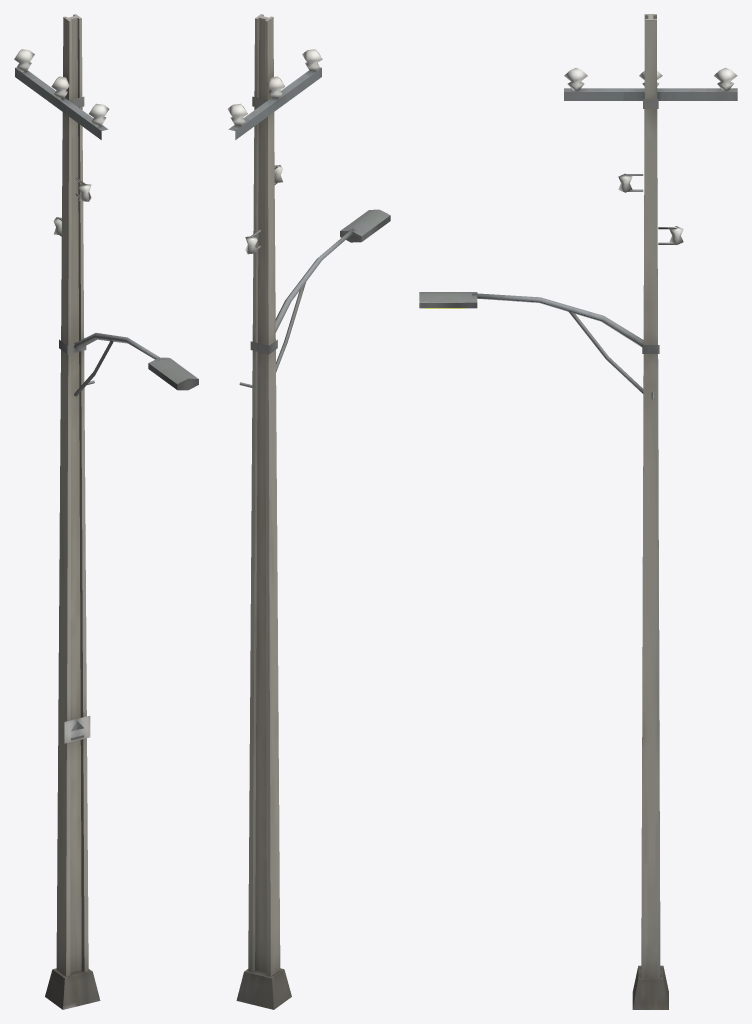
File: pole_streetlight.glb
The picture shows the model from 3 angles, left to right: view 1: azimuth 30°, elevation 25°; view 2: azimuth 150°, elevation 25°; view 3: azimuth 270°, elevation 25°; orthographic projection.
Parts seen in each view (by area): view 1: pole_streetlight; view 2: pole_streetlight; view 3: pole_streetlight.
Part boxes in pixels (x1=…): pole_streetlight: x1=14, y1=14, x2=198, y2=1009; pole_streetlight: x1=227, y1=14, x2=390, y2=1009; pole_streetlight: x1=419, y1=14, x2=737, y2=1009.
Size of the model in its own units: 2.12 by 45 by 13.2.
Materials: 2 (1 with a texture image).
